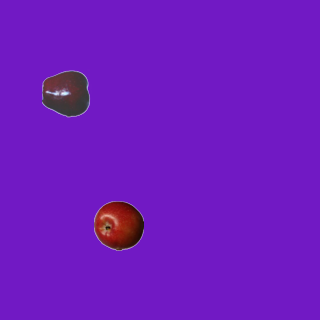Apple Braeburn: (93, 200, 143, 250)
Apple Red Delicious: (41, 68, 91, 118)
